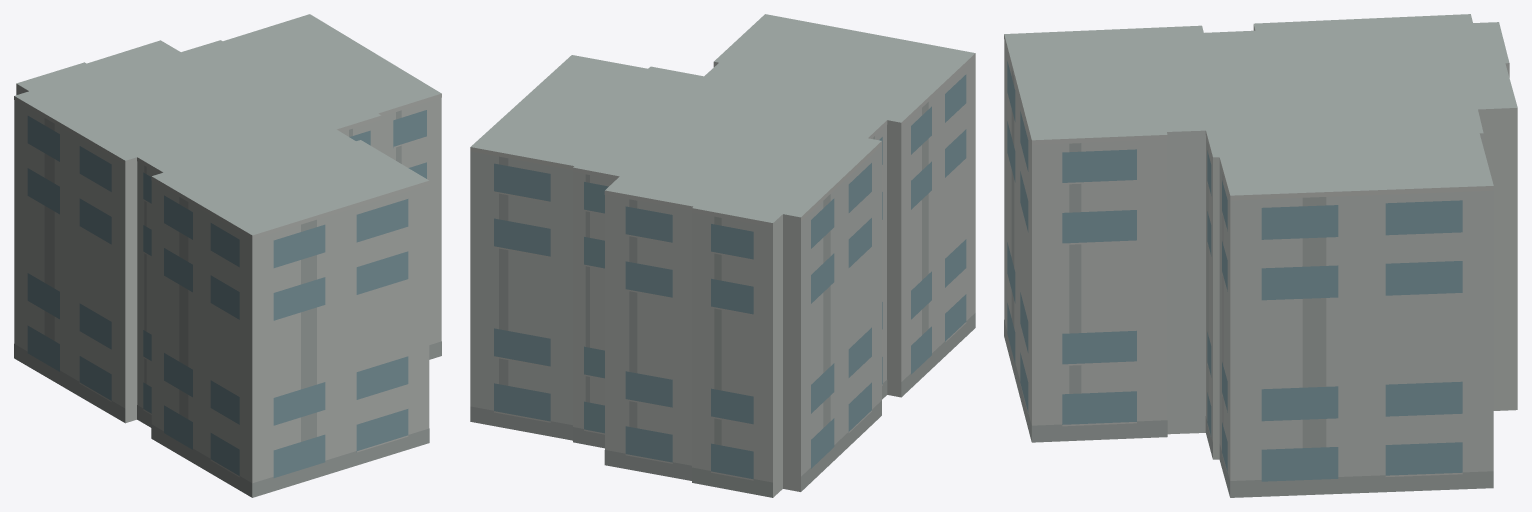
Rendered from survey-upis-32664881.glb.
3 renders of one model, left to right at view 1: azimuth 30°, elevation 25°; view 2: azimuth 150°, elevation 25°; view 3: azimuth 270°, elevation 25°, orthographic. The views are drawn at different scales.
Visible parts, largest first — view 1: survey-upis-32664881.tmp; view 2: survey-upis-32664881.tmp; view 3: survey-upis-32664881.tmp.
Part boxes in pixels (x1,y1,x2,y2): survey-upis-32664881.tmp: (14,14,441,497); survey-upis-32664881.tmp: (470,14,975,497); survey-upis-32664881.tmp: (1004,14,1517,497).
Size of the model in its own units: 19.66 by 15.25 by 23.49.
